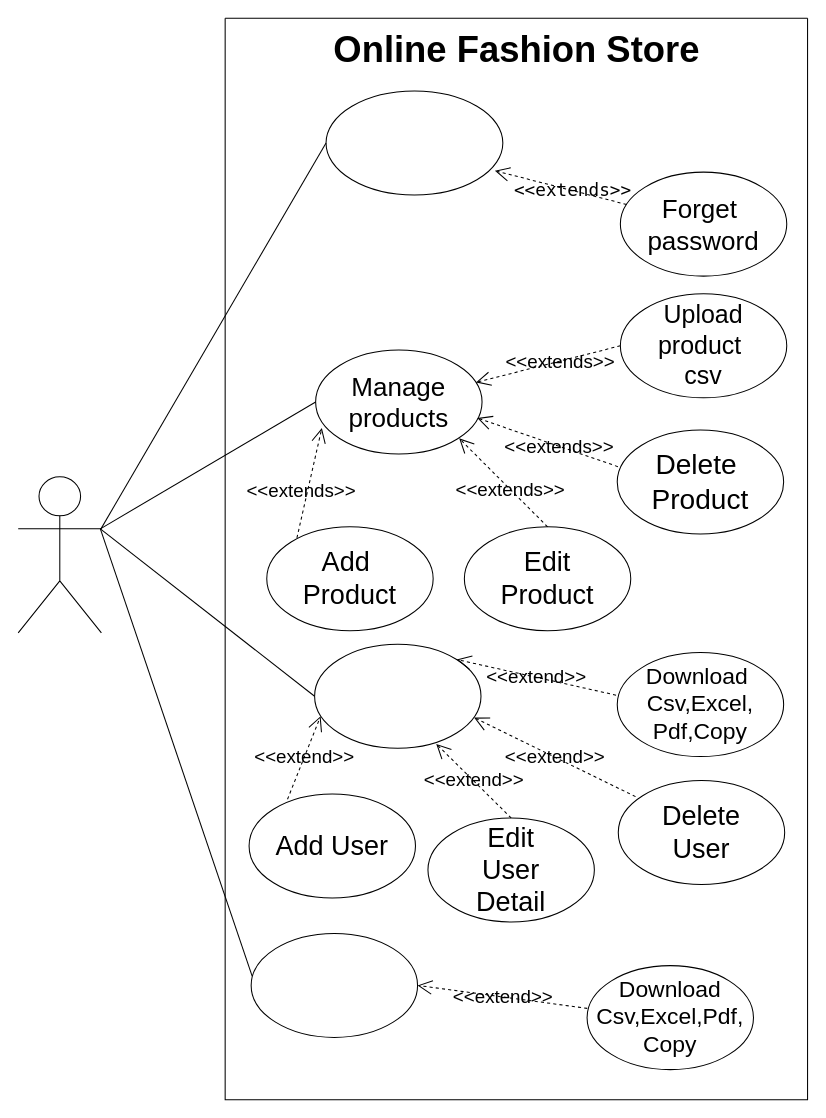
Some shapes in this 826 by 1118 pixel diagram are drawn without their labels. Here are the shapes that lost their labels. From the top down, the centre of each, then its label:
pixel 414 142: Do Login
pixel 59 554: Admin
pixel 397 695: Manage user data
pixel 334 984: View Orders
